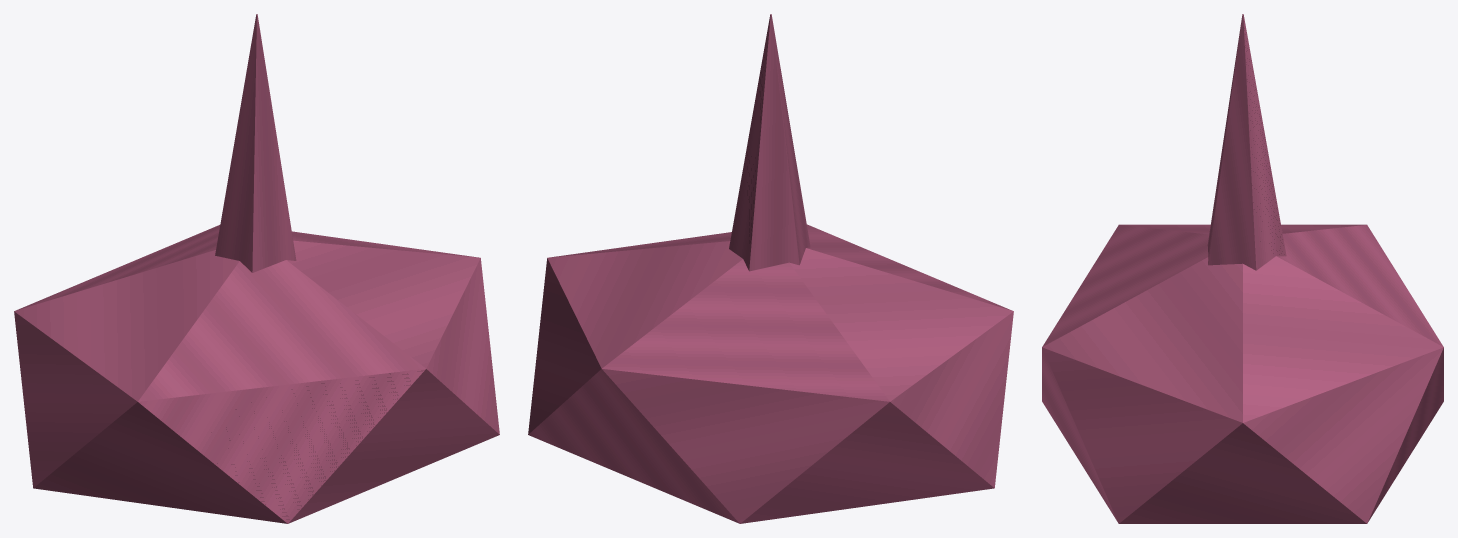
File: recruit.glb
3 renders of one model, left to right at view 1: azimuth 30°, elevation 25°; view 2: azimuth 150°, elevation 25°; view 3: azimuth 270°, elevation 25°, orthographic.
Parts seen in each view (by area): view 1: gear_recruit; view 2: gear_recruit; view 3: gear_recruit.
Boxes of the visible parts, x1,y1,x2,y2 form: gear_recruit: (14,14,499,523); gear_recruit: (528,14,1013,523); gear_recruit: (1042,14,1443,523).
Size of the model in its own units: 0.483 by 0.51 by 0.3743.
1 material, 1 textured.
